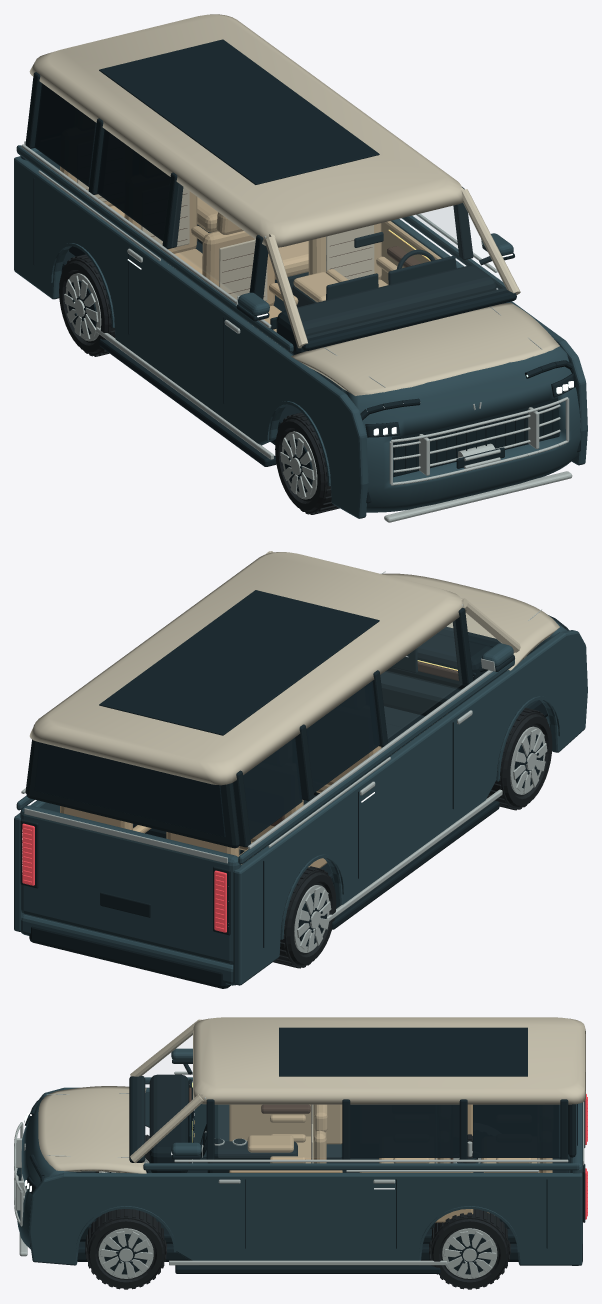
File: yuchuan-v8.glb
3 views of the same model, one above another, from view 1: azimuth 30°, elevation 25°; view 2: azimuth 150°, elevation 25°; view 3: azimuth 270°, elevation 25° (orthographic). The views are drawn at different scales.
Visible parts, largest first — view 1: Body_Deep_estuary_blue, Body_Pearl_champagne, Body_Obsidian_trim, Body_Instrument_glass, Body_Satin_platinum, Body_Rear_privacy_glazing, Body_Almond_leather, WheelSpin_FR_Road_and_snow_rubber, WheelSpin_RR_Road_and_snow_rubber, WheelSpin_FR_Satin_platinum, WheelSpin_RR_Satin_platinum, Body_Clear_driver_glazing (+1 smaller); view 2: Body_Deep_estuary_blue, Body_Pearl_champagne, Body_Obsidian_trim, Body_Instrument_glass, Body_Rear_privacy_glazing, Body_Satin_platinum, WheelSpin_FR_Road_and_snow_rubber, WheelSpin_RR_Road_and_snow_rubber, Body_Almond_leather, WheelSpin_FR_Satin_platinum, WheelSpin_RR_Satin_platinum, Body_Ruby_tail_lamp; view 3: Body_Deep_estuary_blue, Body_Pearl_champagne, Body_Obsidian_trim, Body_Instrument_glass, Body_Rear_privacy_glazing, Body_Almond_leather, Body_Satin_platinum, WheelSpin_FL_Road_and_snow_rubber, WheelSpin_RL_Road_and_snow_rubber, WheelSpin_FL_Satin_platinum, WheelSpin_RL_Satin_platinum, Body_Smoked_walnut (+2 smaller).
Boxes of the visible parts, left/top/right/bottom form: Body_Deep_estuary_blue: left=14, top=145, right=587, bottom=518; Body_Pearl_champagne: left=29, top=14, right=559, bottom=395; Body_Obsidian_trim: left=25, top=72, right=580, bottom=503; Body_Instrument_glass: left=99, top=39, right=456, bottom=300; Body_Satin_platinum: left=21, top=141, right=573, bottom=522; Body_Rear_privacy_glazing: left=34, top=83, right=170, bottom=240; Body_Almond_leather: left=60, top=166, right=441, bottom=332; WheelSpin_FR_Road_and_snow_rubber: left=275, top=412, right=339, bottom=514; WheelSpin_RR_Road_and_snow_rubber: left=59, top=254, right=115, bottom=356; WheelSpin_FR_Satin_platinum: left=280, top=431, right=317, bottom=499; WheelSpin_RR_Satin_platinum: left=64, top=273, right=101, bottom=341; Body_Clear_driver_glazing: left=413, top=206, right=457, bottom=248; Body_Deep_estuary_blue: left=14, top=615, right=587, bottom=985; Body_Pearl_champagne: left=29, top=551, right=559, bottom=785; Body_Obsidian_trim: left=20, top=607, right=568, bottom=988; Body_Instrument_glass: left=99, top=590, right=417, bottom=735; Body_Rear_privacy_glazing: left=34, top=681, right=379, bottom=839; Body_Satin_platinum: left=21, top=571, right=541, bottom=921; WheelSpin_FR_Road_and_snow_rubber: left=487, top=707, right=552, bottom=810; WheelSpin_RR_Road_and_snow_rubber: left=273, top=866, right=336, bottom=968; Body_Almond_leather: left=60, top=746, right=381, bottom=868; WheelSpin_FR_Satin_platinum: left=510, top=726, right=547, bottom=794; WheelSpin_RR_Satin_platinum: left=294, top=885, right=331, bottom=952; Body_Ruby_tail_lamp: left=22, top=823, right=226, bottom=932; Body_Deep_estuary_blue: left=16, top=1048, right=582, bottom=1265; Body_Pearl_champagne: left=38, top=1017, right=585, bottom=1173; Body_Obsidian_trim: left=18, top=1059, right=585, bottom=1273; Body_Instrument_glass: left=188, top=1027, right=527, bottom=1142; Body_Rear_privacy_glazing: left=350, top=1104, right=577, bottom=1157; Body_Almond_leather: left=229, top=1104, right=552, bottom=1222; Body_Satin_platinum: left=14, top=1071, right=584, bottom=1265; WheelSpin_FL_Road_and_snow_rubber: left=85, top=1209, right=166, bottom=1289; WheelSpin_RL_Road_and_snow_rubber: left=429, top=1209, right=510, bottom=1289; WheelSpin_FL_Satin_platinum: left=98, top=1228, right=153, bottom=1278; WheelSpin_RL_Satin_platinum: left=442, top=1228, right=497, bottom=1278; Body_Smoked_walnut: left=189, top=1085, right=537, bottom=1172.
Bounding box in the file's own units: 2.39 × 2.14 × 5.71.
